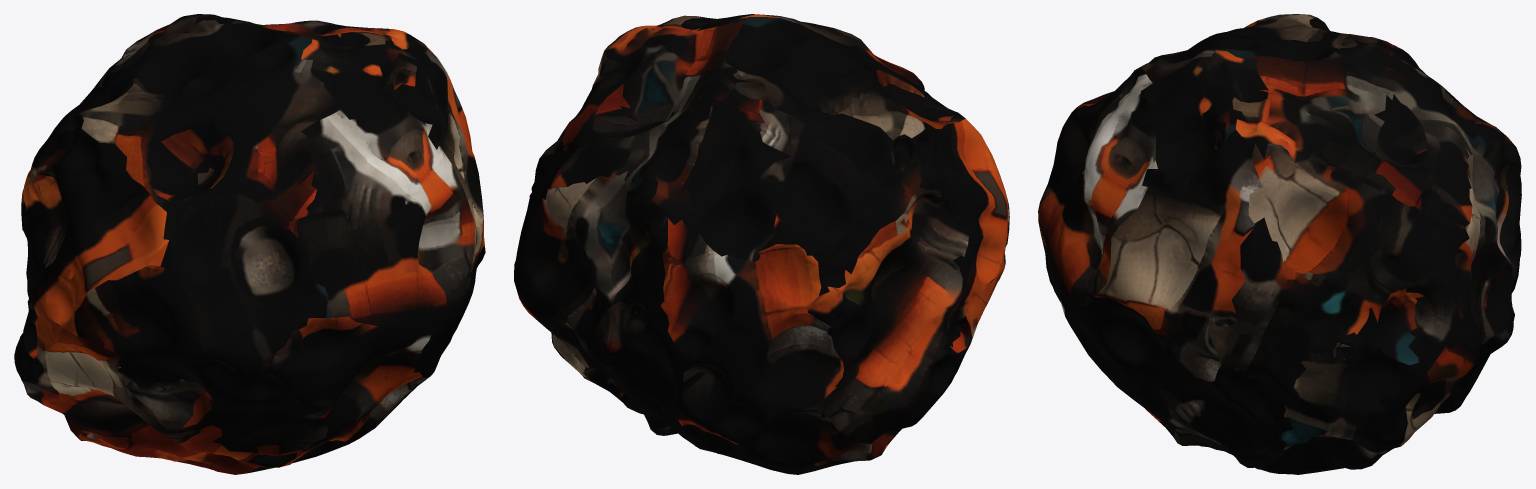
File: Asteroid.fbx
The picture shows the model from 3 angles, left to right: view 1: azimuth 30°, elevation 25°; view 2: azimuth 150°, elevation 25°; view 3: azimuth 270°, elevation 25°; orthographic projection. The views are drawn at different scales.
Visible parts, largest first — view 1: node_6dfa7e23_17ee_440d_8123_cc275303f65f_mesh0; view 2: node_6dfa7e23_17ee_440d_8123_cc275303f65f_mesh0; view 3: node_6dfa7e23_17ee_440d_8123_cc275303f65f_mesh0.
Boxes of the visible parts, x1,y1,x2,y2 form: node_6dfa7e23_17ee_440d_8123_cc275303f65f_mesh0: [14, 14, 485, 474]; node_6dfa7e23_17ee_440d_8123_cc275303f65f_mesh0: [514, 14, 1009, 474]; node_6dfa7e23_17ee_440d_8123_cc275303f65f_mesh0: [1038, 14, 1521, 474].
Size of the model in its own units: 99.38 by 95.95 by 99.45.
